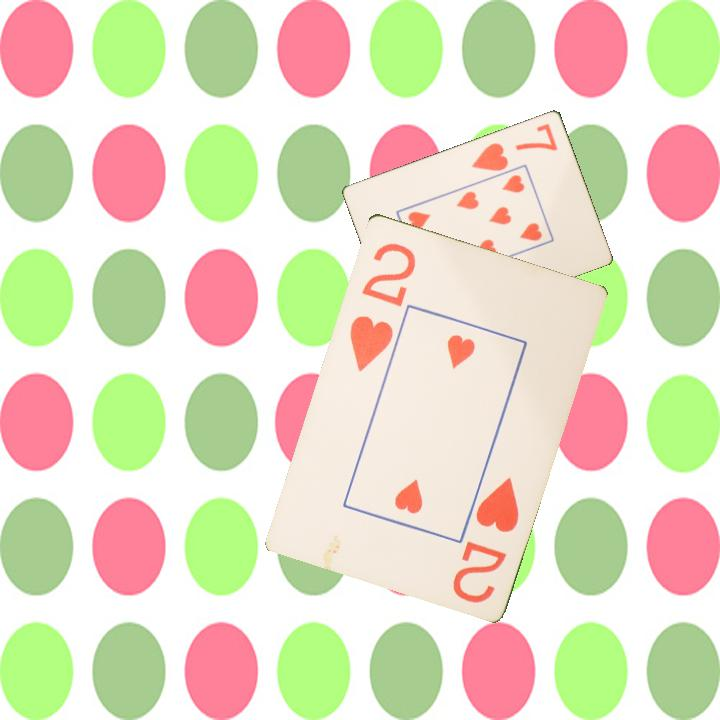2h: (345, 238, 419, 374), (448, 473, 522, 606)
7h: (468, 120, 561, 174)
